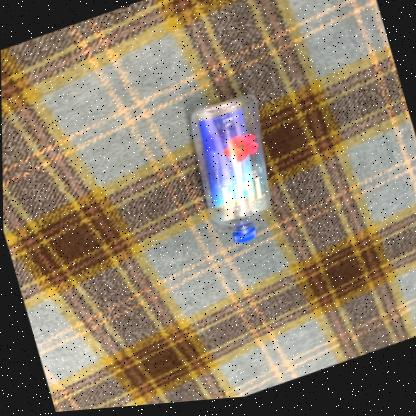Plastic: (189, 97, 269, 244)
